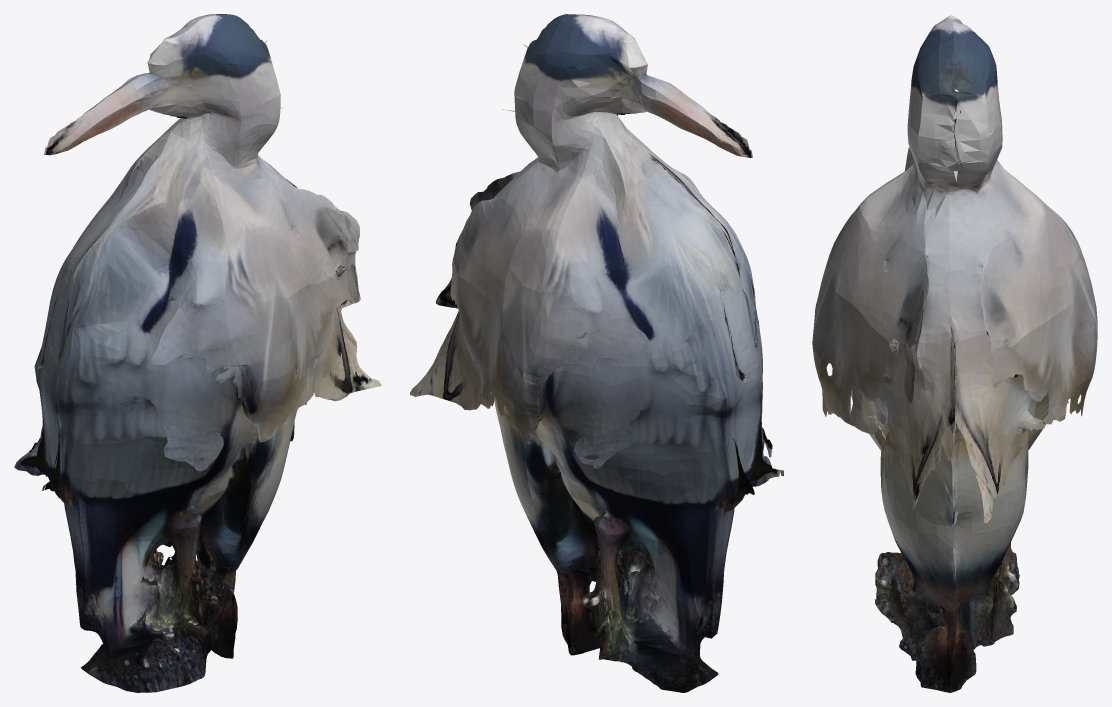
The model's file is heron_v2.glb.
3 renders of one model, left to right at view 1: azimuth 30°, elevation 25°; view 2: azimuth 150°, elevation 25°; view 3: azimuth 270°, elevation 25°, orthographic. The views are drawn at different scales.
Parts seen in each view (by area): view 1: world; view 2: world; view 3: world.
Boxes of the visible parts, x1,y1,x2,y2 form: world: [14, 14, 381, 692]; world: [410, 14, 783, 692]; world: [812, 14, 1097, 692].
Size of the model in its own units: 0.5522 by 0.999 by 0.3849.
1 material, 1 textured.
